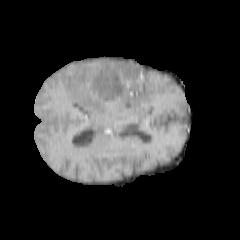glioma: (63, 59, 149, 118)
